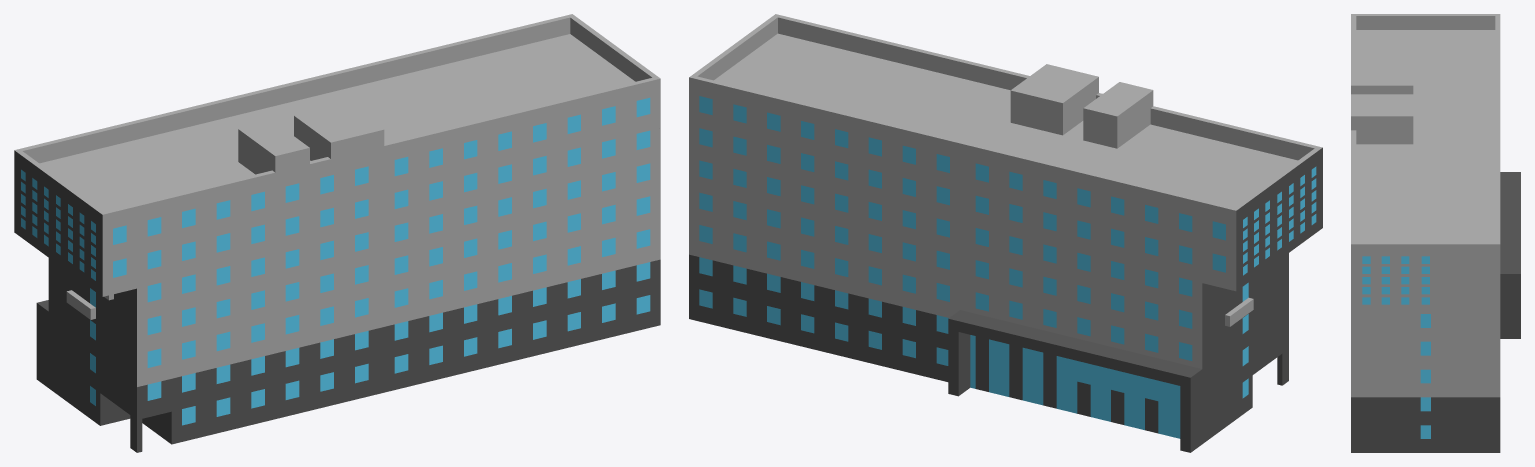
Rendered from BitSolB.glb.
3 renders of one model, left to right at view 1: azimuth 30°, elevation 25°; view 2: azimuth 150°, elevation 25°; view 3: azimuth 270°, elevation 25°, orthographic. The views are drawn at different scales.
Visible parts, largest first — view 1: Main, Dark, Window; view 2: Main, Dark, Window; view 3: Main, Dark, Window.
Part boxes in pixels (x1,y1,x2,y2): Main: [14, 14, 660, 386]; Dark: [14, 150, 660, 452]; Window: [21, 97, 650, 425]; Main: [689, 14, 1322, 368]; Dark: [689, 147, 1322, 452]; Window: [699, 96, 1316, 438]; Main: [1351, 14, 1500, 397]; Dark: [1351, 172, 1520, 452]; Window: [1362, 256, 1430, 438].
Size of the model in its own units: 53.3 by 24 by 16.6.
